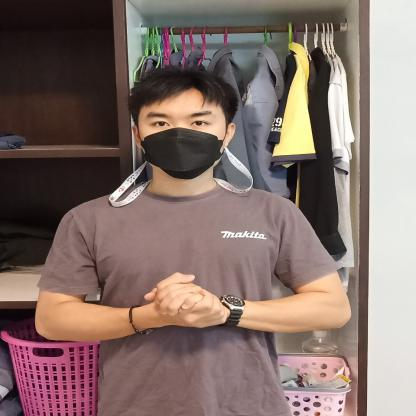Grieve: (44, 254, 332, 354)
